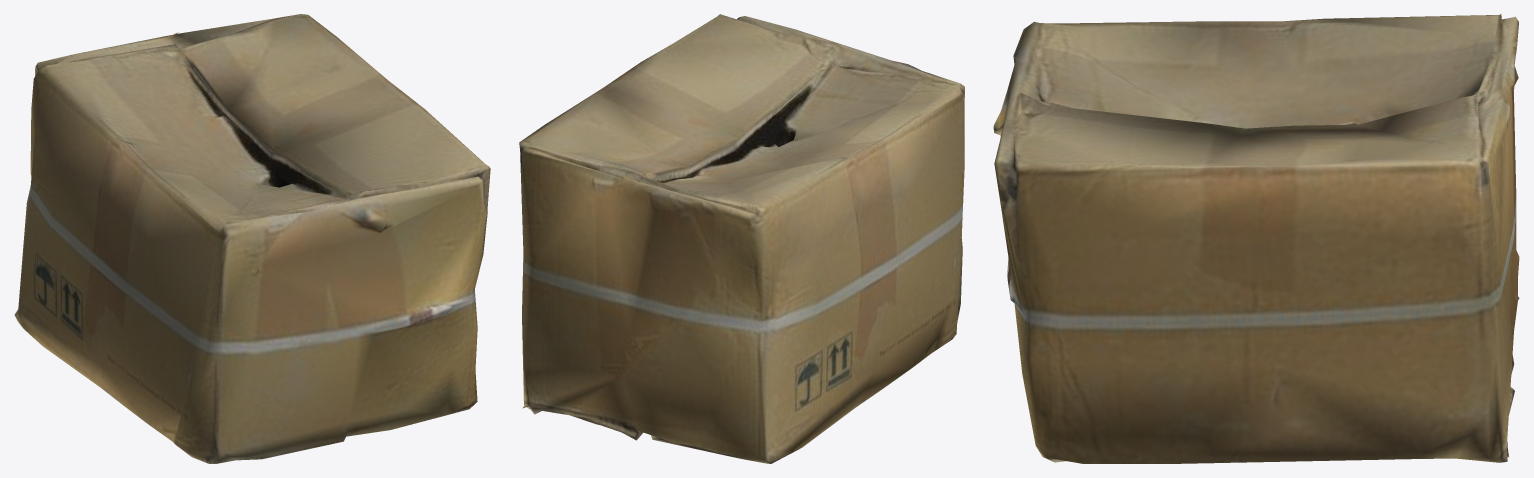
Rendered from cardboard_box_lo.glb.
3 renders of one model, left to right at view 1: azimuth 30°, elevation 25°; view 2: azimuth 150°, elevation 25°; view 3: azimuth 270°, elevation 25°, orthographic. The views are drawn at different scales.
Visible parts, largest first — view 1: cardboard_box_01; view 2: cardboard_box_01; view 3: cardboard_box_01.
Boxes of the visible parts, bbox=[...] form: cardboard_box_01: bbox=[14, 14, 490, 463]; cardboard_box_01: bbox=[519, 14, 964, 463]; cardboard_box_01: bbox=[993, 14, 1519, 463].
Bounding box in the file's own units: 0.3861 × 0.3407 × 0.5159.
1 material, 1 textured.
